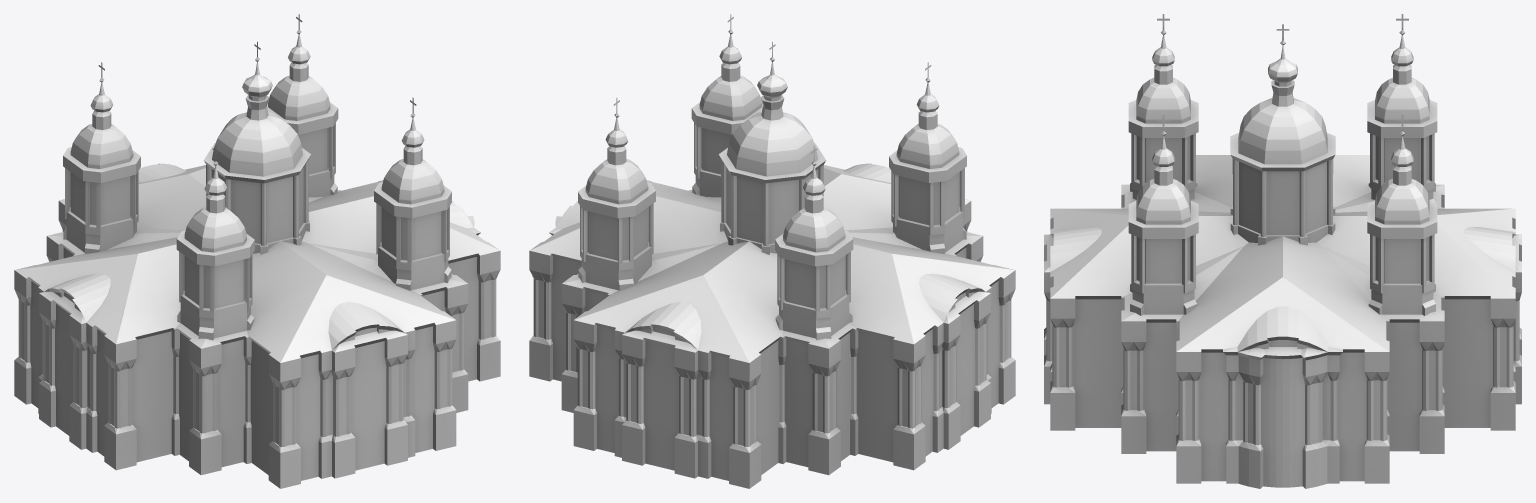
The model's file is nikolskiysobor.dae.
3 renders of one model, left to right at view 1: azimuth 30°, elevation 25°; view 2: azimuth 150°, elevation 25°; view 3: azimuth 270°, elevation 25°, orthographic. The views are drawn at different scales.
Visible parts, largest first — view 1: NikolskiySobor; view 2: NikolskiySobor; view 3: NikolskiySobor.
Boxes of the visible parts, bbox=[...] form: NikolskiySobor: bbox=[14, 14, 500, 488]; NikolskiySobor: bbox=[529, 14, 1015, 488]; NikolskiySobor: bbox=[1044, 14, 1521, 488].
Size of the model in its own units: 0.0812 by 0.0795 by 0.0663.
1 material, 1 textured.
